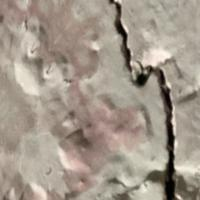crack: (104, 0, 188, 199)
